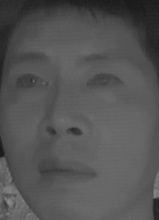eye: (13, 69, 51, 93), (85, 68, 124, 91)
mouth: (33, 153, 99, 190)
